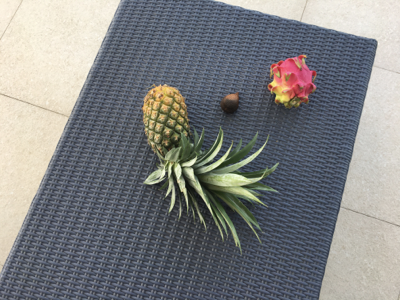dragon fruit: (270, 55, 316, 108)
pineapple: (143, 83, 279, 256)
snake fruit: (222, 90, 242, 114)
